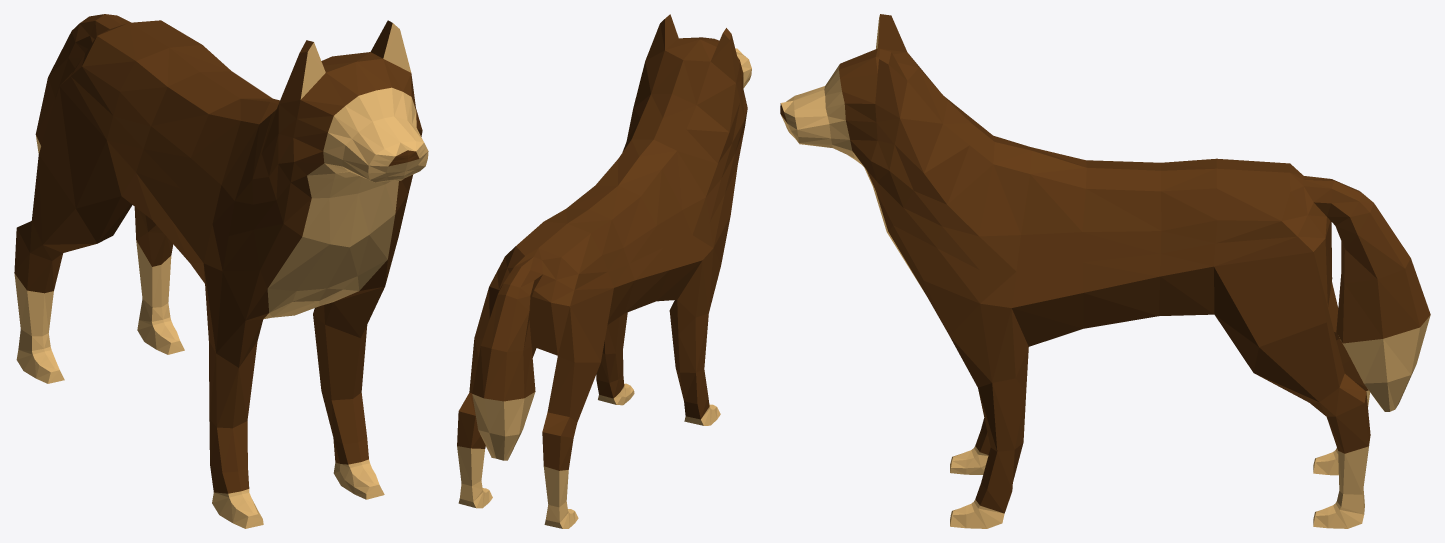
The model's file is wolf2.dae.
The picture shows the model from 3 angles, left to right: view 1: azimuth 30°, elevation 25°; view 2: azimuth 150°, elevation 25°; view 3: azimuth 270°, elevation 25°; orthographic projection. The views are drawn at different scales.
Visible parts, largest first — view 1: dog; view 2: dog; view 3: dog.
Part boxes in pixels (box(x1,y1,x2,y2)): dog: box(14, 14, 428, 528); dog: box(457, 14, 751, 528); dog: box(780, 14, 1430, 528).
Bounding box in the file's own units: 2.44 × 7.64 × 9.68.
